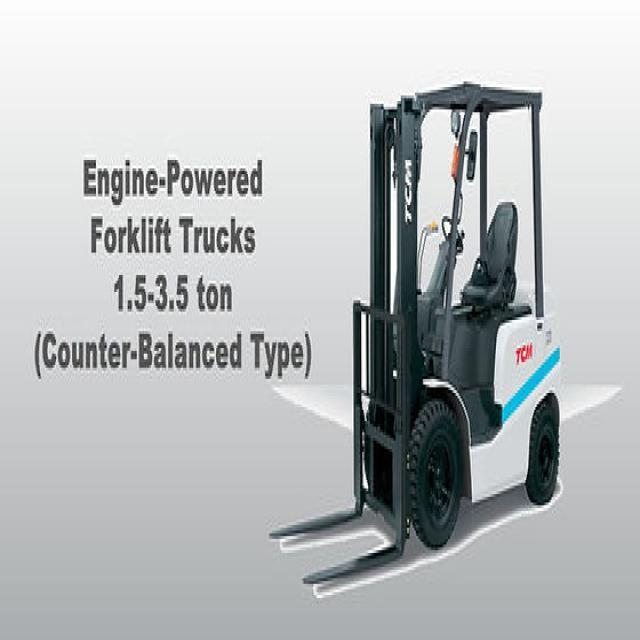forklift: (338, 70, 571, 587)
